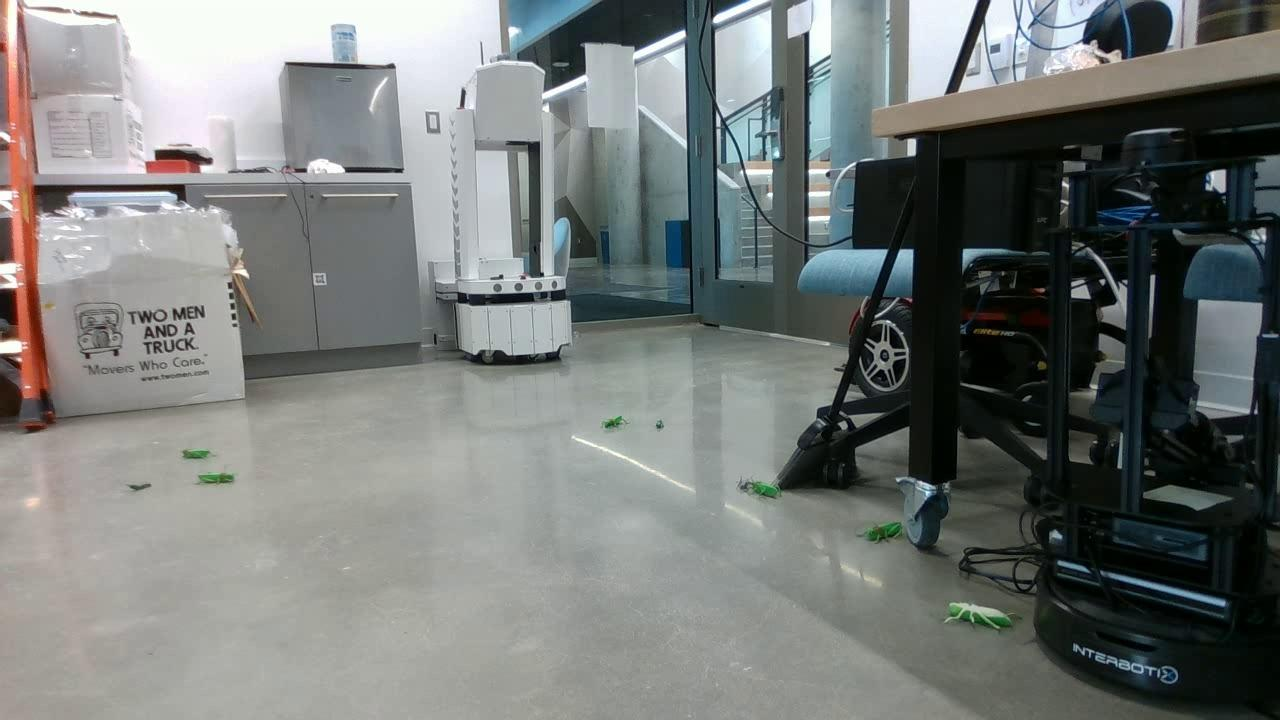grasshopper: (946, 601, 1020, 638), (862, 518, 902, 546), (191, 470, 242, 487), (749, 482, 782, 500), (184, 448, 217, 462), (602, 417, 627, 430)
